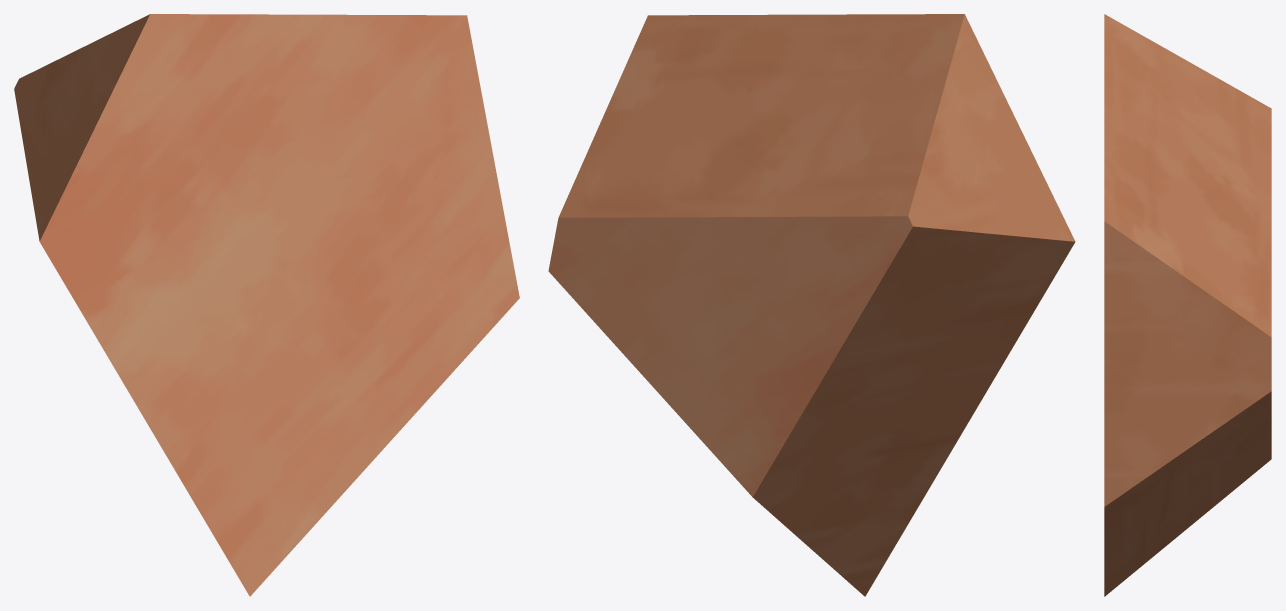
The model's file is wall_upper_s09.fbx.
3 renders of one model, left to right at view 1: azimuth 30°, elevation 25°; view 2: azimuth 150°, elevation 25°; view 3: azimuth 270°, elevation 25°, orthographic. The views are drawn at different scales.
Parts seen in each view (by area): view 1: wall_upper_s09; view 2: wall_upper_s09; view 3: wall_upper_s09.
Part boxes in pixels (x1,y1,x2,y2): wall_upper_s09: (14,14,519,596); wall_upper_s09: (548,14,1075,596); wall_upper_s09: (1104,14,1271,596).
Size of the model in its own units: 2.95 by 3.57 by 1.
